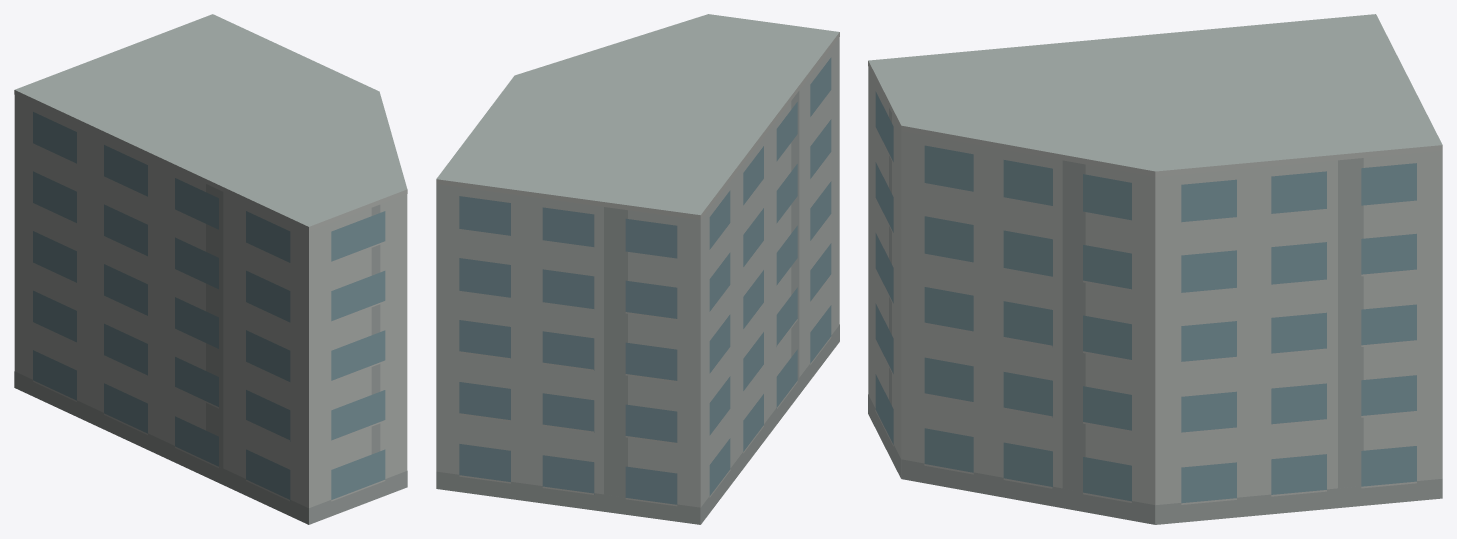
File: residential-65c796f6-a441-4cf1-910f-135c62df128c.glb
The picture shows the model from 3 angles, left to right: view 1: azimuth 30°, elevation 25°; view 2: azimuth 150°, elevation 25°; view 3: azimuth 270°, elevation 25°; orthographic projection. The views are drawn at different scales.
Parts seen in each view (by area): view 1: residential-65c796f6-a441-4cf1-910f-135c62df128c.tmp; view 2: residential-65c796f6-a441-4cf1-910f-135c62df128c.tmp; view 3: residential-65c796f6-a441-4cf1-910f-135c62df128c.tmp.
Boxes of the visible parts, x1,y1,x2,y2 form: residential-65c796f6-a441-4cf1-910f-135c62df128c.tmp: (14,14,407,524); residential-65c796f6-a441-4cf1-910f-135c62df128c.tmp: (436,14,839,524); residential-65c796f6-a441-4cf1-910f-135c62df128c.tmp: (868,14,1442,524).
Size of the model in its own units: 14.58 by 15.25 by 22.48.
